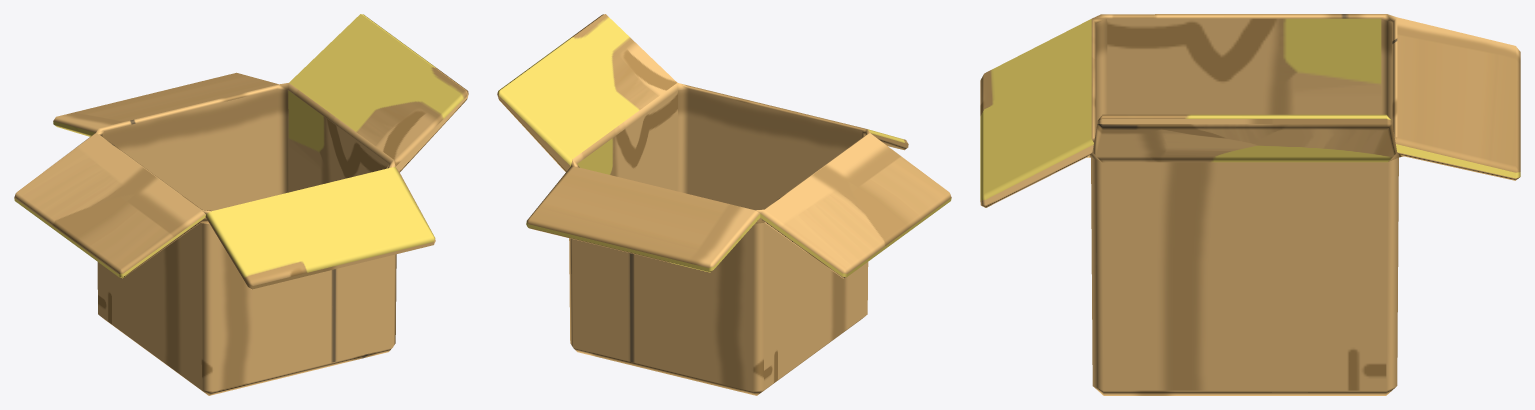
File: CarboardBox_Open.fbx
The picture shows the model from 3 angles, left to right: view 1: azimuth 30°, elevation 25°; view 2: azimuth 150°, elevation 25°; view 3: azimuth 270°, elevation 25°; orthographic projection. The views are drawn at different scales.
Visible parts, largest first — view 1: CarboardBox_Open; view 2: CarboardBox_Open; view 3: CarboardBox_Open.
Boxes of the visible parts, x1,y1,x2,y2 form: CarboardBox_Open: (14, 14, 468, 395); CarboardBox_Open: (497, 14, 951, 395); CarboardBox_Open: (980, 14, 1520, 395).
Size of the model in its own units: 200 by 133 by 196.
